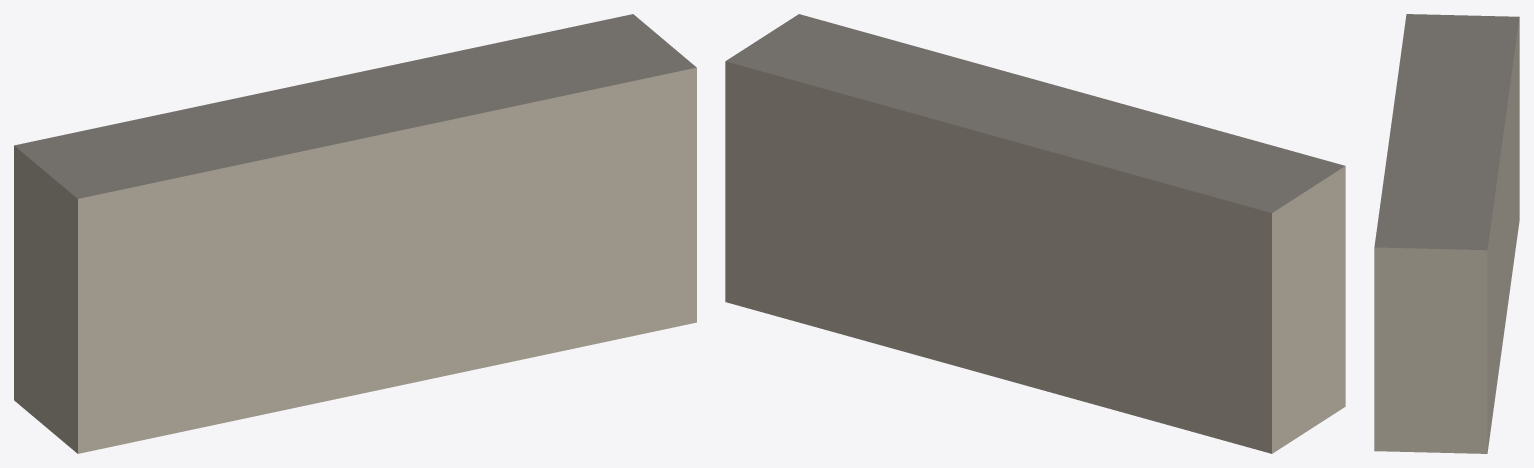
The picture shows the model from 3 angles, left to right: view 1: azimuth 30°, elevation 25°; view 2: azimuth 150°, elevation 25°; view 3: azimuth 270°, elevation 25°; orthographic projection. The views are drawn at different scales.
Visible parts, largest first — view 1: HP-w987283660; view 2: HP-w987283660; view 3: HP-w987283660.
Part boxes in pixels (x1,y1,x2,y2): HP-w987283660: (14,14,696,453); HP-w987283660: (725,14,1345,453); HP-w987283660: (1374,14,1519,453).
Bounding box in the file's own units: 44.77 × 18 × 11.63.
